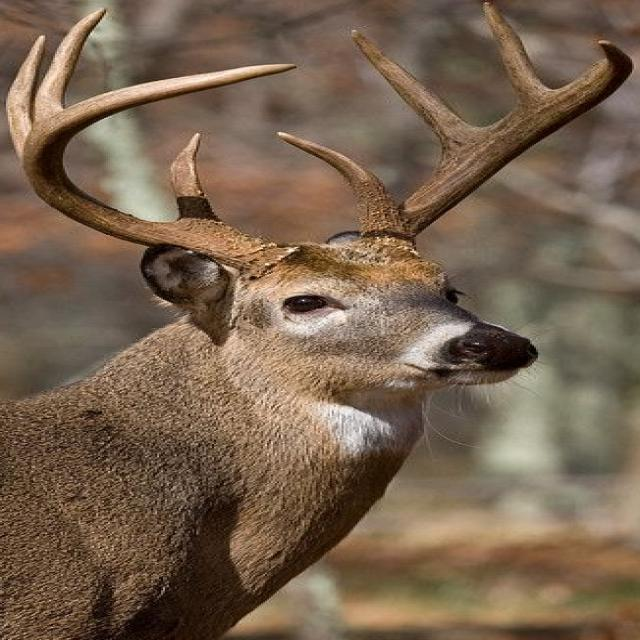L-F: (363, 37, 635, 245)
L-G1: (275, 130, 399, 226)
L-G2: (352, 29, 487, 153)
L-G3: (480, 2, 550, 102)
R-F: (20, 62, 301, 269)
R-G1: (169, 132, 223, 221)
